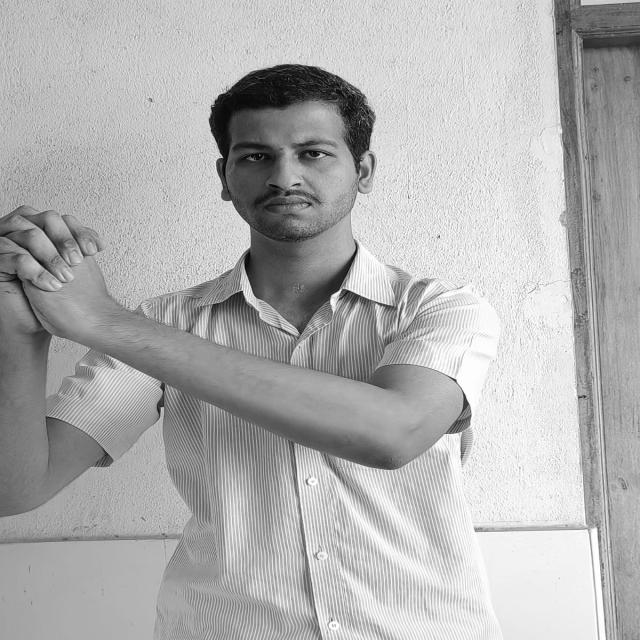Sorry: (0, 192, 109, 350)
